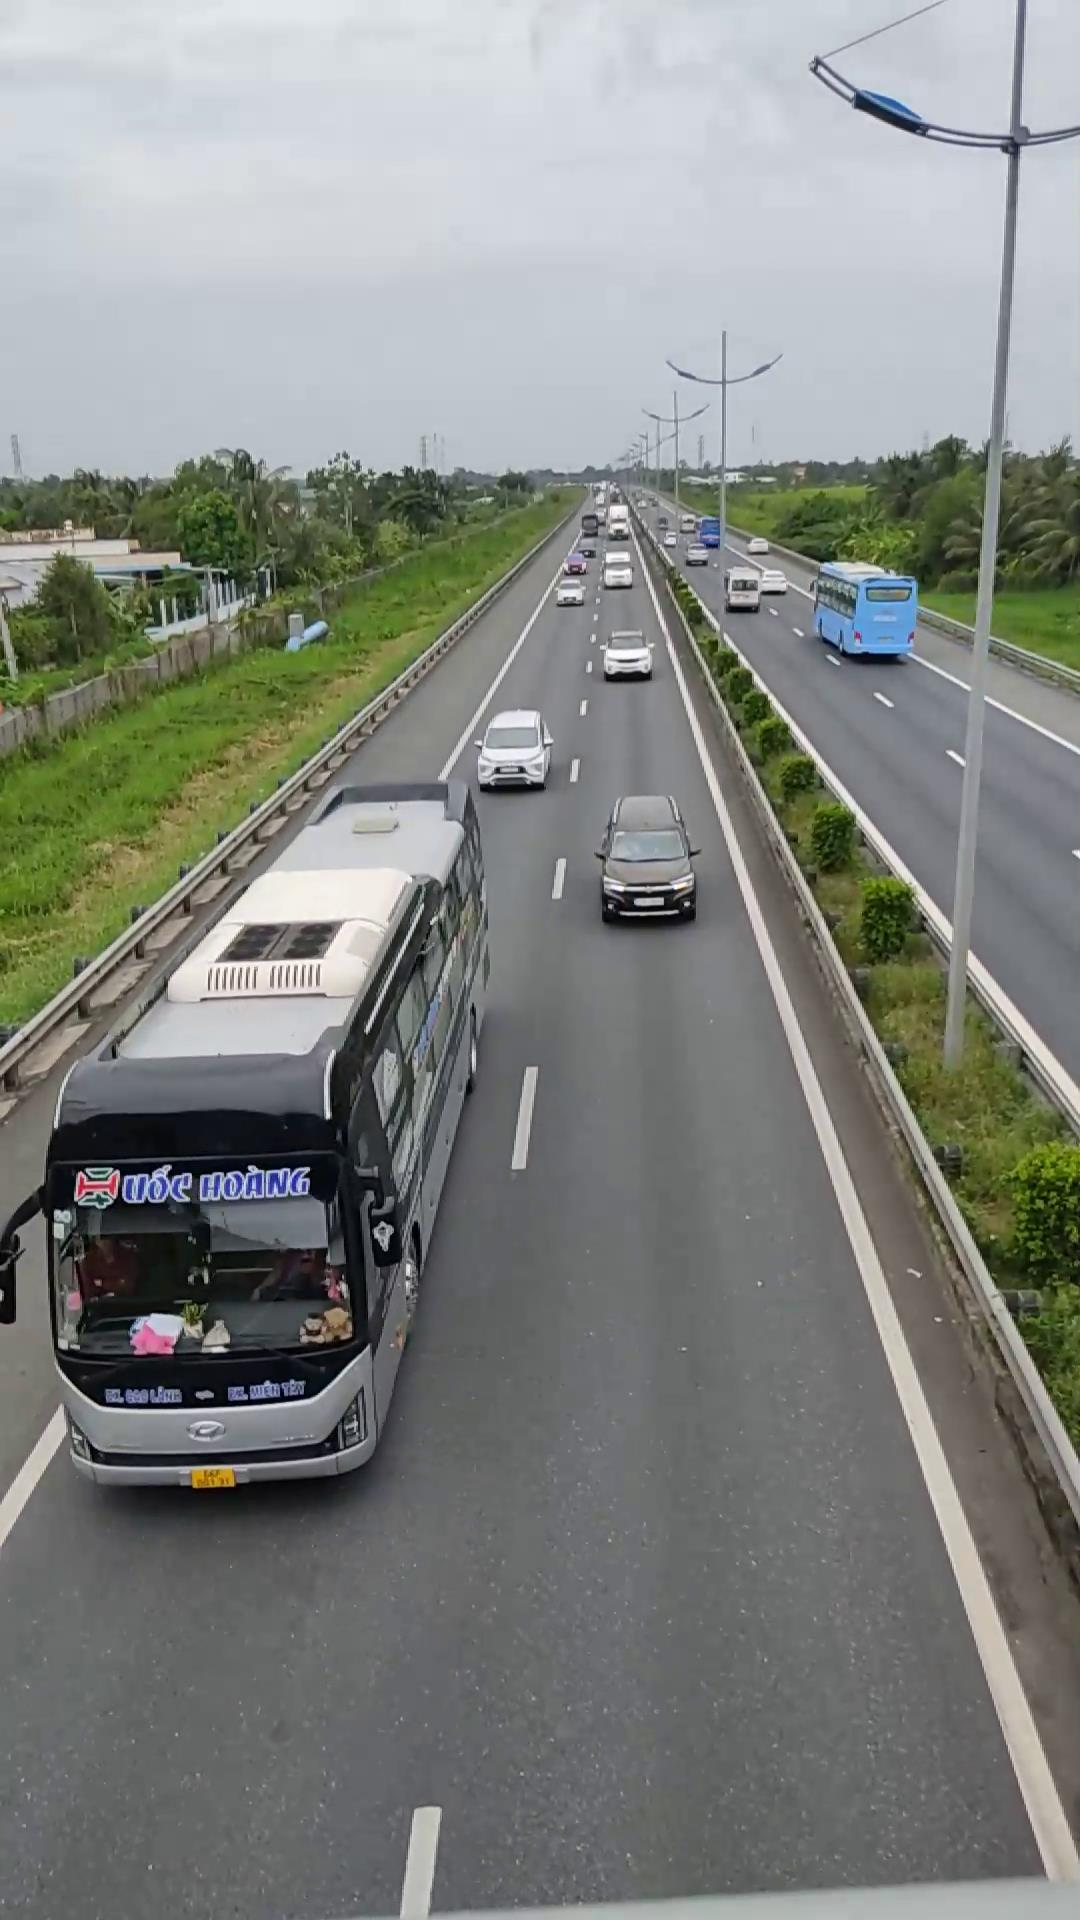bus: (31, 781, 492, 1488)
car: (593, 793, 699, 922), (473, 708, 553, 790)
